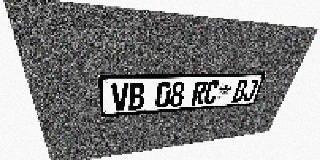0: (155, 82, 172, 108)
8: (169, 81, 186, 107)
B: (129, 83, 145, 110), (231, 80, 249, 102)
C: (203, 80, 220, 104)
J: (242, 79, 259, 101)
R: (191, 81, 208, 105)
V: (111, 83, 128, 112)
